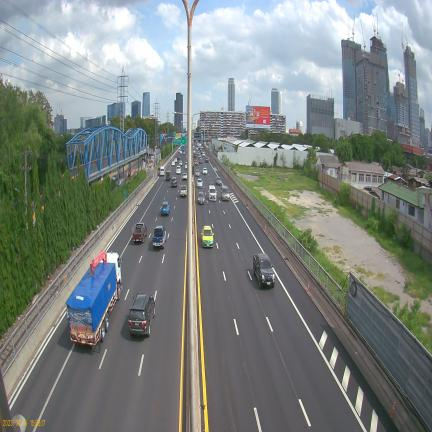bus: (158, 166, 165, 176), (181, 145, 185, 153)
car: (128, 294, 155, 336), (160, 201, 170, 216), (197, 191, 205, 204), (196, 178, 203, 188), (171, 177, 177, 187), (216, 176, 222, 185), (182, 172, 187, 180), (203, 167, 208, 175), (176, 166, 181, 174), (195, 169, 200, 176), (171, 160, 175, 166), (199, 158, 203, 164), (185, 162, 188, 169), (205, 157, 209, 162), (194, 160, 198, 165), (202, 151, 205, 157), (179, 160, 182, 166), (174, 157, 177, 163)
pickup: (253, 253, 275, 288), (152, 225, 166, 249), (180, 184, 187, 197)
taxi: (201, 225, 214, 247)
truck: (66, 251, 121, 346), (132, 223, 147, 243), (166, 171, 171, 181)
van: (220, 185, 229, 201), (208, 185, 217, 201)
